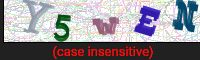5: (52, 12, 75, 41)
E: (132, 1, 164, 36)
N: (170, 1, 198, 35)
Y: (12, 1, 54, 35)
w: (90, 13, 122, 36)
